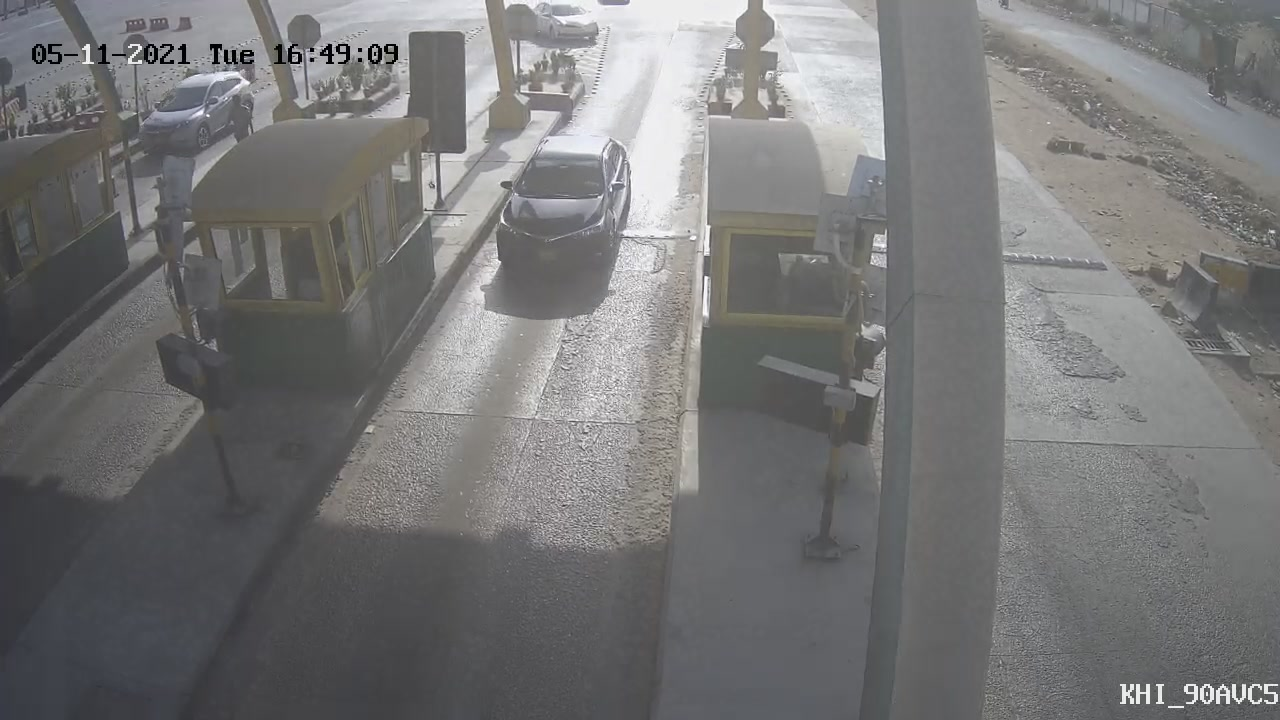F1: (474, 121, 651, 296)
